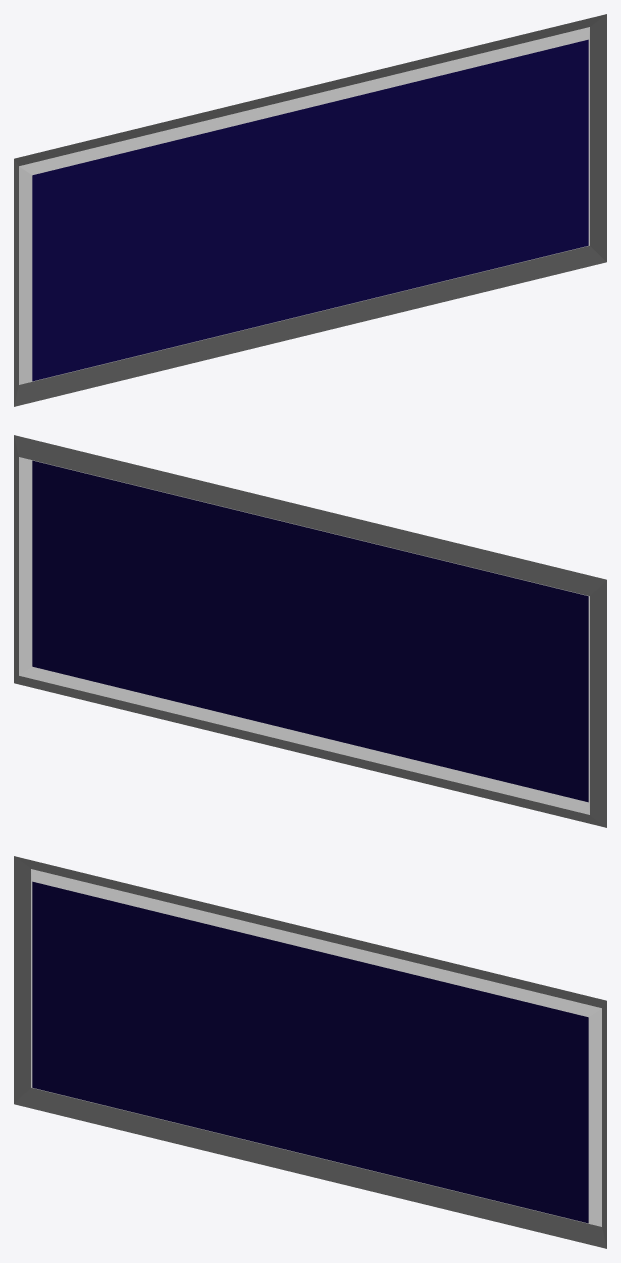
Rendered from keyword-base-plate.glb.
The picture shows the model from 3 angles, top to bottom: view 1: azimuth 30°, elevation 25°; view 2: azimuth 150°, elevation 25°; view 3: azimuth 330°, elevation 25°; orthographic projection.
Parts seen in each view (by area): view 1: desc- plate-keyword; view 2: desc- plate-keyword; view 3: desc- plate-keyword.
Part boxes in pixels (x1,y1,x2,y2): desc- plate-keyword: (14,14,606,406); desc- plate-keyword: (14,435,606,827); desc- plate-keyword: (14,856,606,1248).
Size of the model in its own units: 2 by 0.8 by 0.0359.
Materials: 1 (1 with a texture image).
